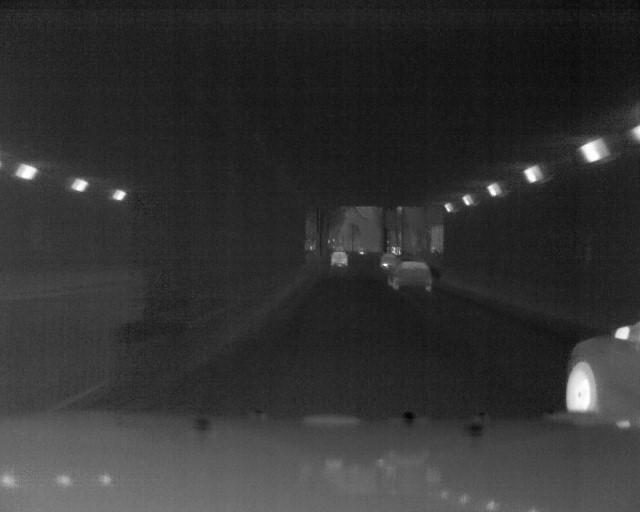car: (562, 305, 640, 424), (385, 257, 436, 293), (328, 250, 350, 269)
